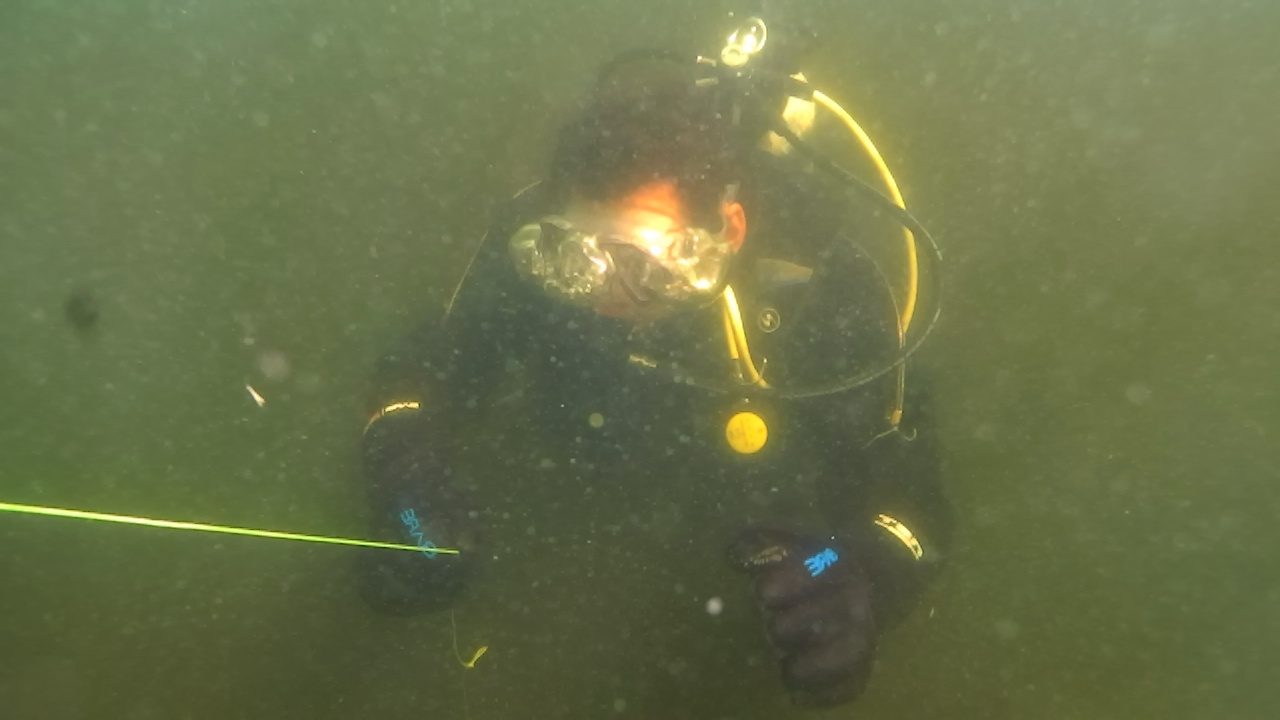Diver: (354, 16, 1014, 686)
Head: (496, 62, 836, 390)
